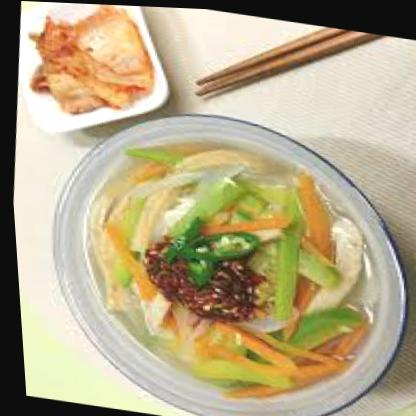Kimchi stew: (17, 1, 163, 124)
banquet noodles: (38, 117, 389, 415)
